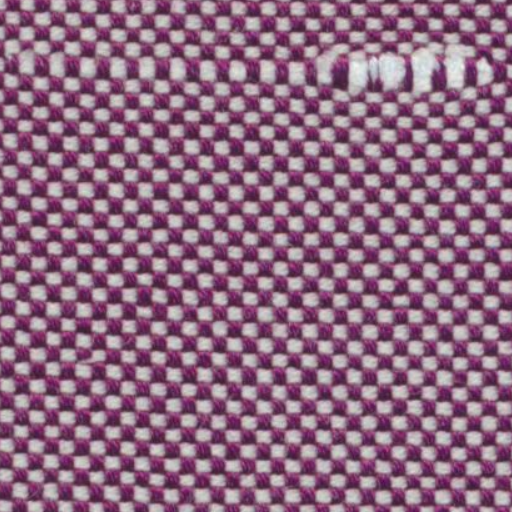DaiSha: (20, 32, 504, 131)
